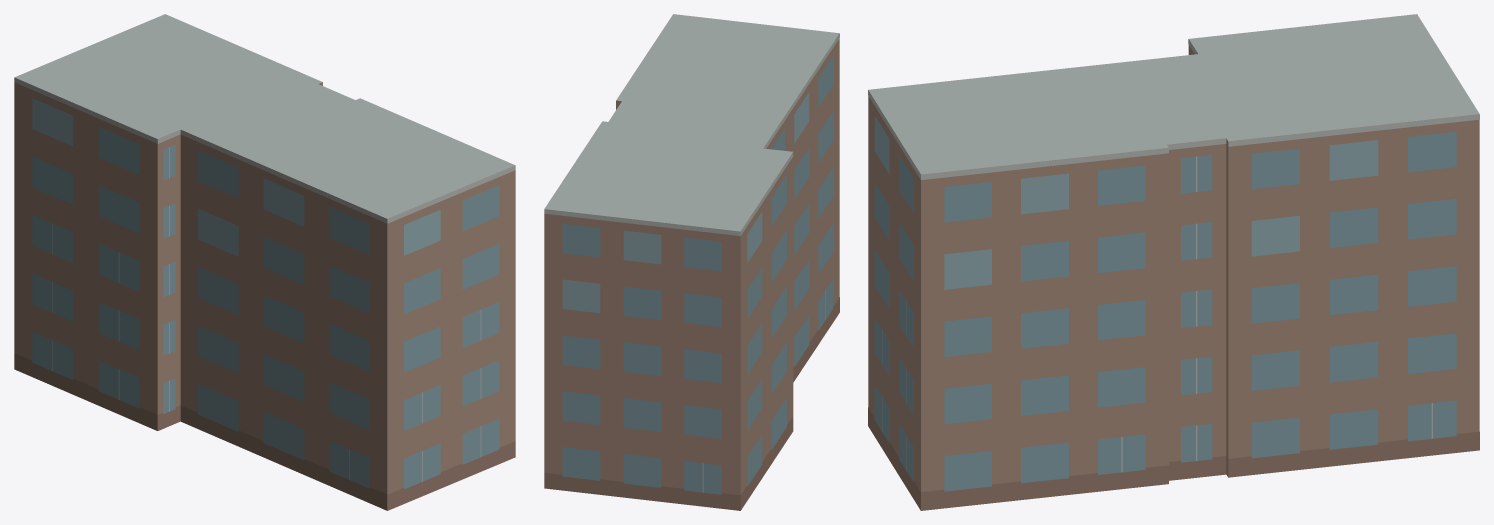
Rendered from survey-upis-32926728.glb.
3 views of the same model, side by side, from view 1: azimuth 30°, elevation 25°; view 2: azimuth 150°, elevation 25°; view 3: azimuth 270°, elevation 25° (orthographic). The views are drawn at different scales.
Parts seen in each view (by area): view 1: survey-upis-32926728.tmp; view 2: survey-upis-32926728.tmp; view 3: survey-upis-32926728.tmp.
Boxes of the visible parts, x1,y1,x2,y2 form: survey-upis-32926728.tmp: [14, 14, 515, 510]; survey-upis-32926728.tmp: [544, 14, 839, 510]; survey-upis-32926728.tmp: [868, 14, 1479, 510].
Size of the model in its own units: 15.22 by 14.85 by 24.49.
